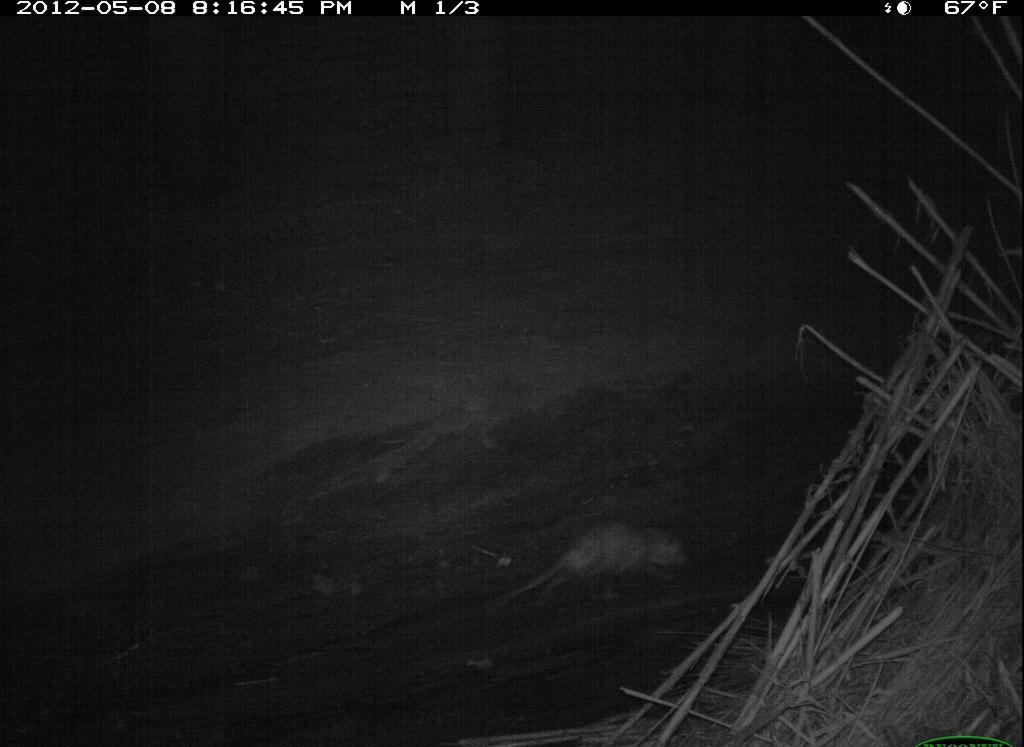opossum: (488, 516, 699, 616)
